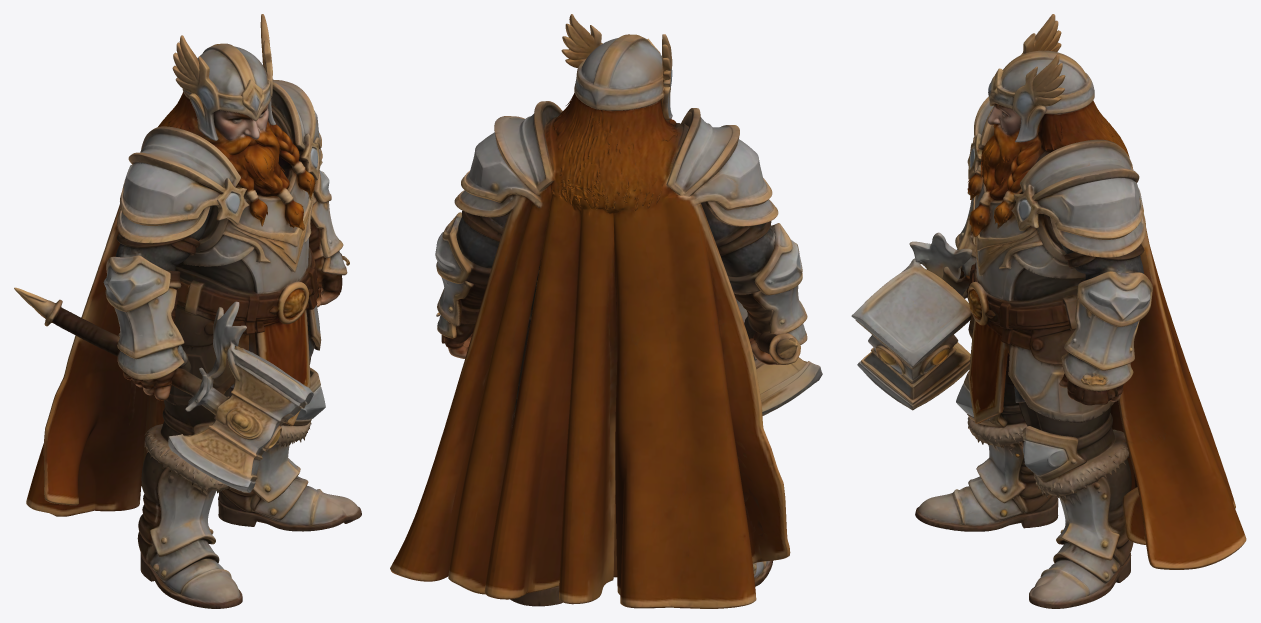
File: dwarf_warrior_full_male_01.glb
3 renders of one model, left to right at view 1: azimuth 30°, elevation 25°; view 2: azimuth 150°, elevation 25°; view 3: azimuth 270°, elevation 25°, orthographic. The views are drawn at different scales.
Parts seen in each view (by area): view 1: material; view 2: material; view 3: material.
Boxes of the visible parts, x1,y1,x2,y2 form: material: (14,14,361,608); material: (390,14,822,608); material: (851,14,1246,608).
Bounding box in the file's own units: 0.6851 × 1.03 × 0.7178.
Materials: 1 (1 with a texture image).
